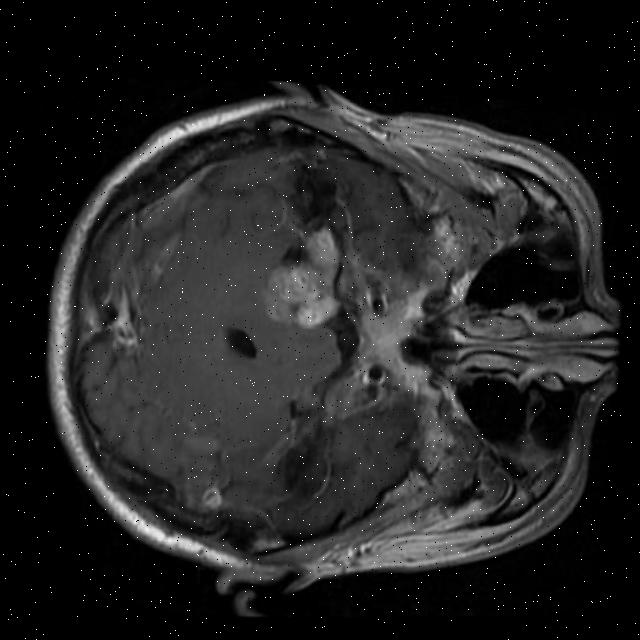Meningioma: (261, 222, 342, 330)
